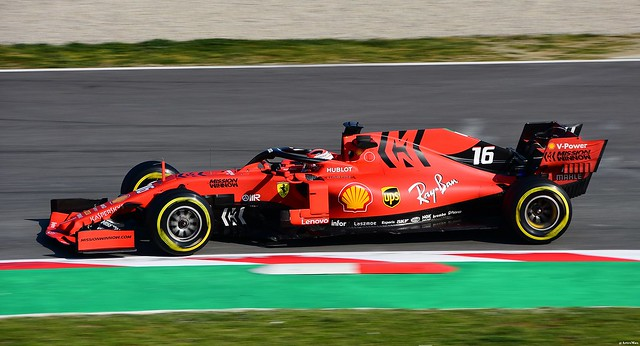F1 Car: (34, 112, 609, 258)
